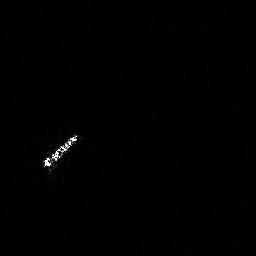ship: (38, 129, 85, 171)
